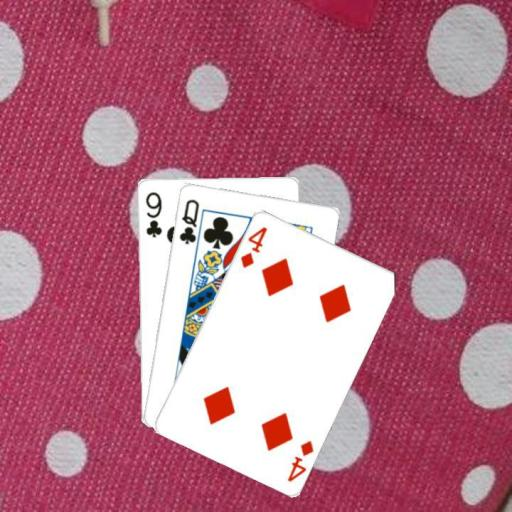4D: (237, 223, 269, 270), (284, 437, 315, 483)
9C: (141, 188, 163, 239)
QC: (176, 196, 201, 246)
